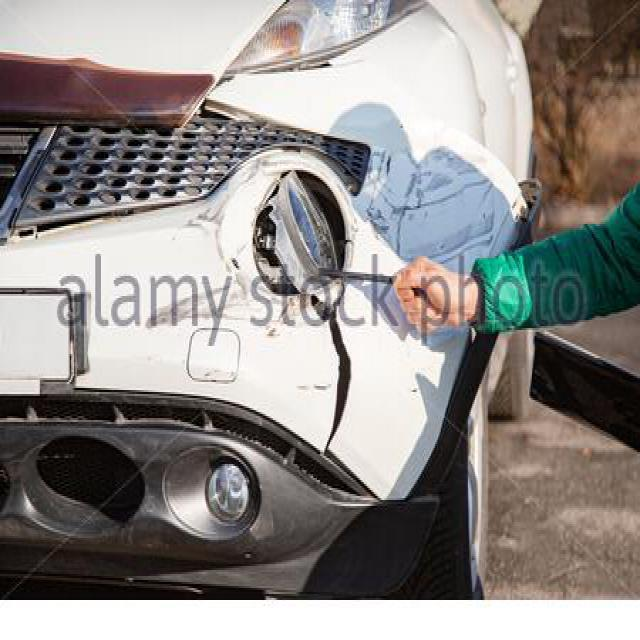front-bumper-dent: (0, 228, 465, 584)
